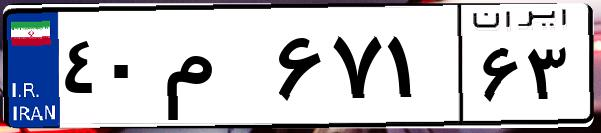0: (110, 28, 158, 98)
1: (385, 28, 445, 110)
3: (525, 38, 570, 115)
4: (57, 26, 110, 100)
6: (270, 28, 330, 110), (475, 38, 525, 113)
7: (330, 28, 385, 110)
م: (158, 20, 270, 120)
